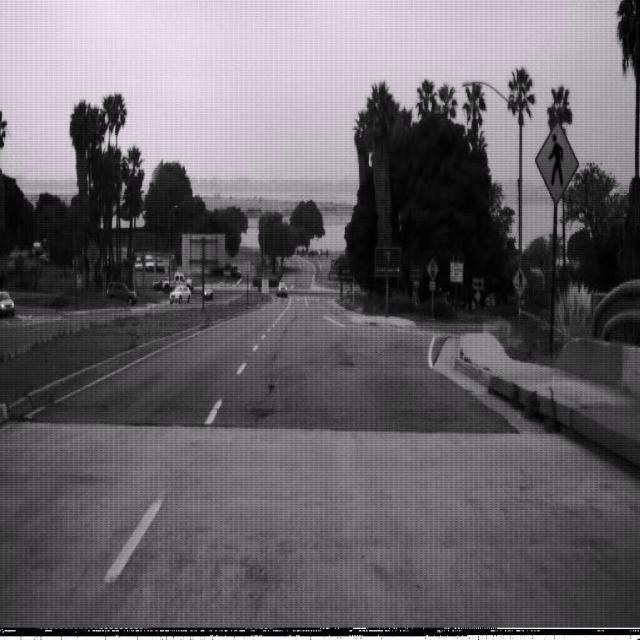pedestrianCrossing: (534, 119, 579, 205), (512, 266, 527, 296)
